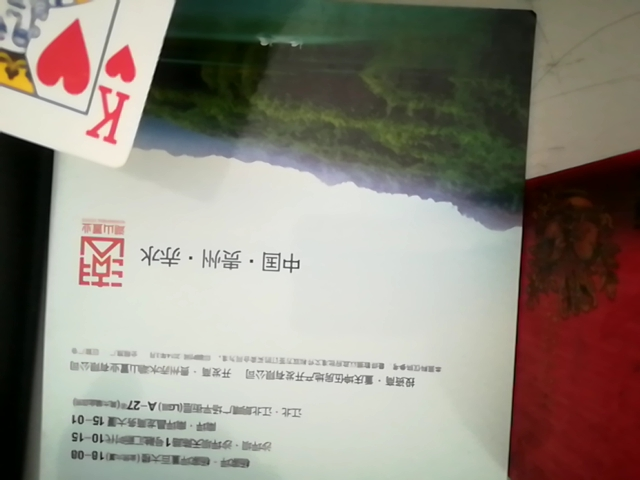hx k: (4, 0, 262, 173)
